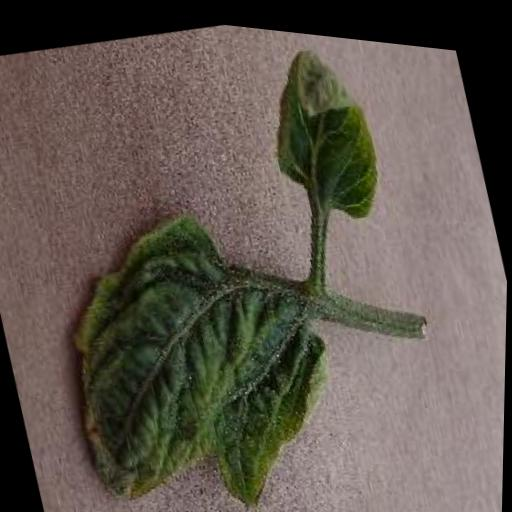Yellow Leaf Curl Virus: (33, 171, 361, 512), (250, 28, 393, 230)
